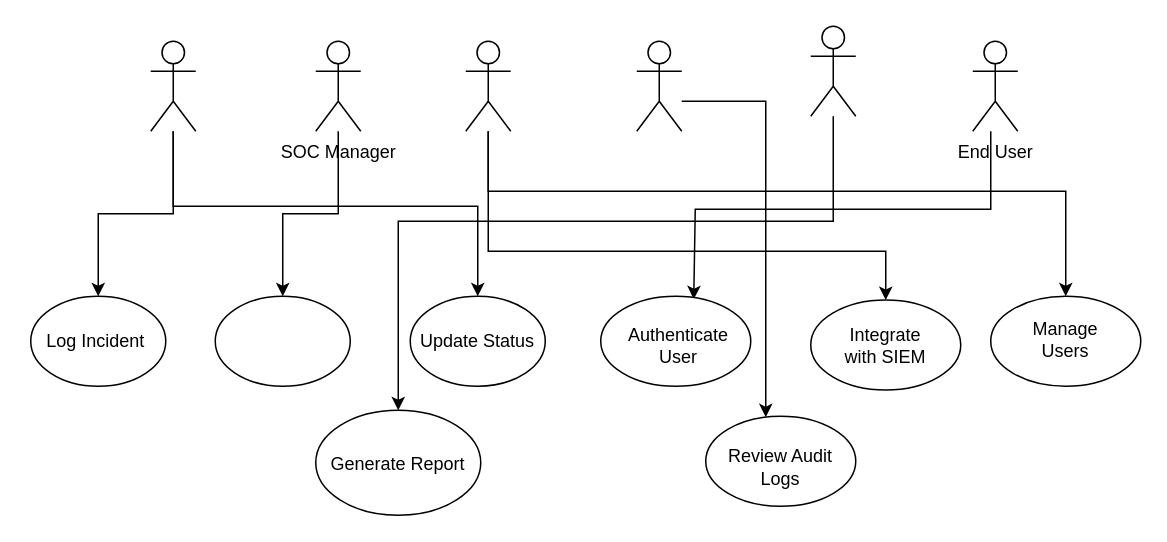
This 1167x542 diagram has some shape labels left out. Each missing label, with the box of its shape:
Assign Case: (214, 295, 350, 386)
Compliance Officer: (635, 40, 682, 131)
Executive/CISO: (809, 25, 856, 116)
IT Administrator: (464, 40, 511, 131)
Security Analyst: (149, 40, 196, 131)
